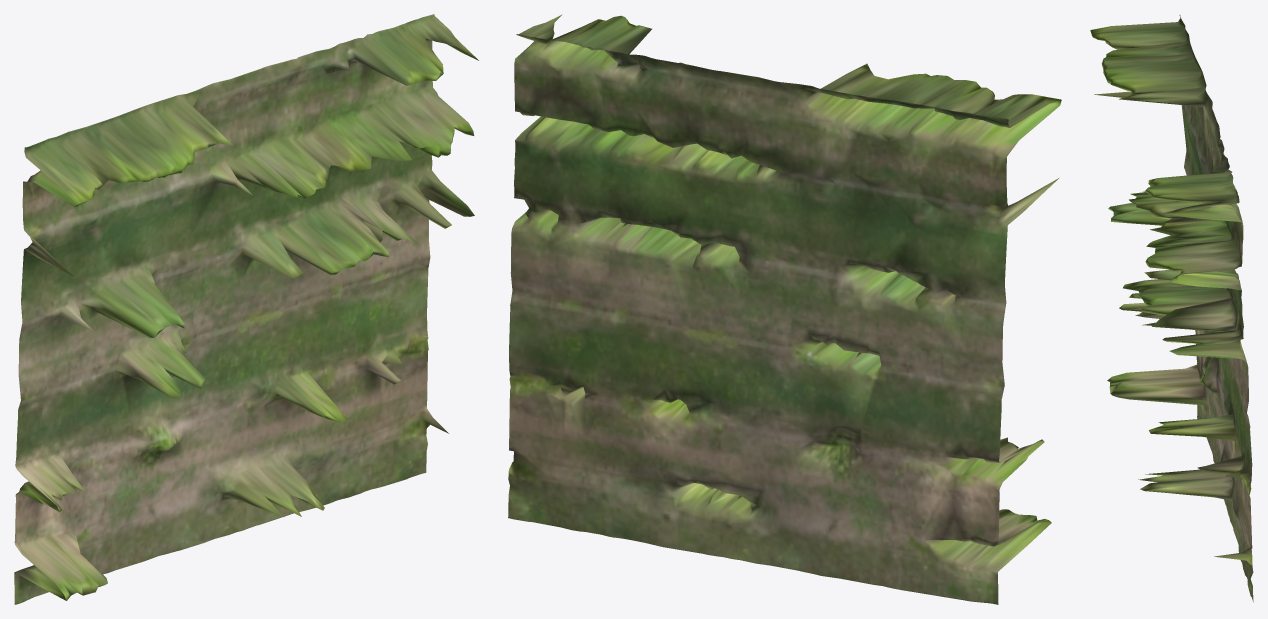
File: map_140_30.obj
3 views of the same model, side by side, from view 1: azimuth 30°, elevation 25°; view 2: azimuth 150°, elevation 25°; view 3: azimuth 270°, elevation 25° (orthographic). The views are drawn at different scales.
Visible parts, largest first — view 1: map_140_30.obj; view 2: map_140_30.obj; view 3: map_140_30.obj.
Part boxes in pixels (x1,y1,x2,y2): map_140_30.obj: [14, 14, 478, 604]; map_140_30.obj: [508, 14, 1061, 604]; map_140_30.obj: [1090, 15, 1253, 602].
Bounding box in the file's own units: 10 × 10 × 3.67.
Materials: 1 (1 with a texture image).
